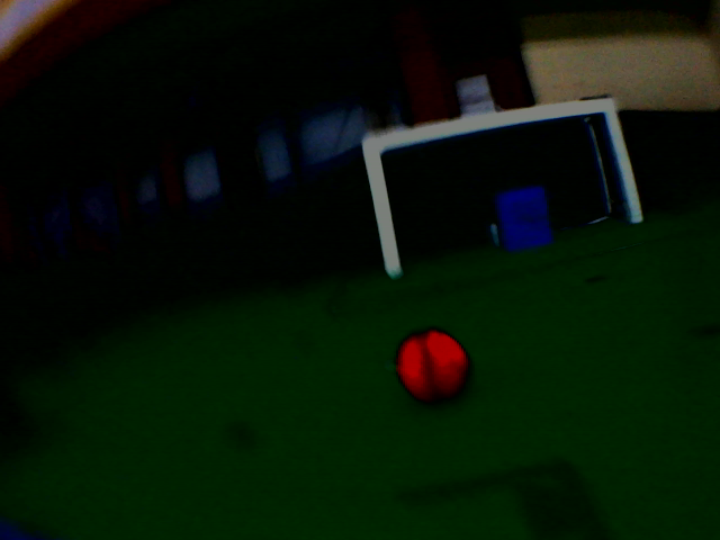bola: (385, 321, 480, 410)
